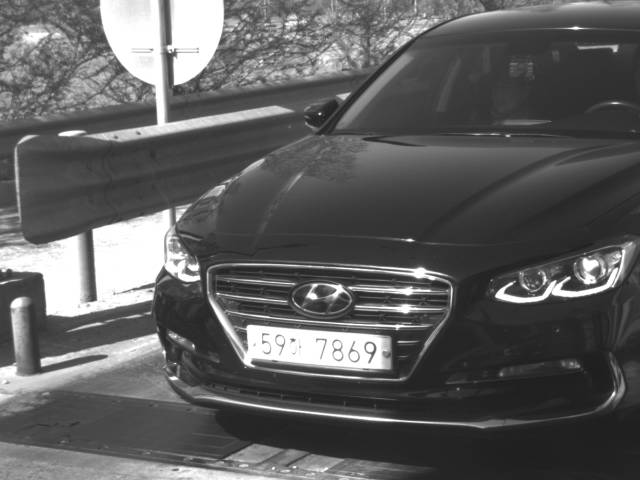car: (150, 1, 640, 443)
plate: (245, 323, 398, 373)
